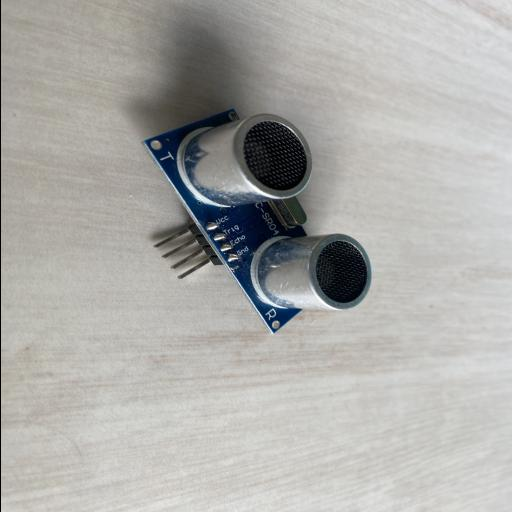Ultrasonic Sensor: (139, 109, 372, 335)
